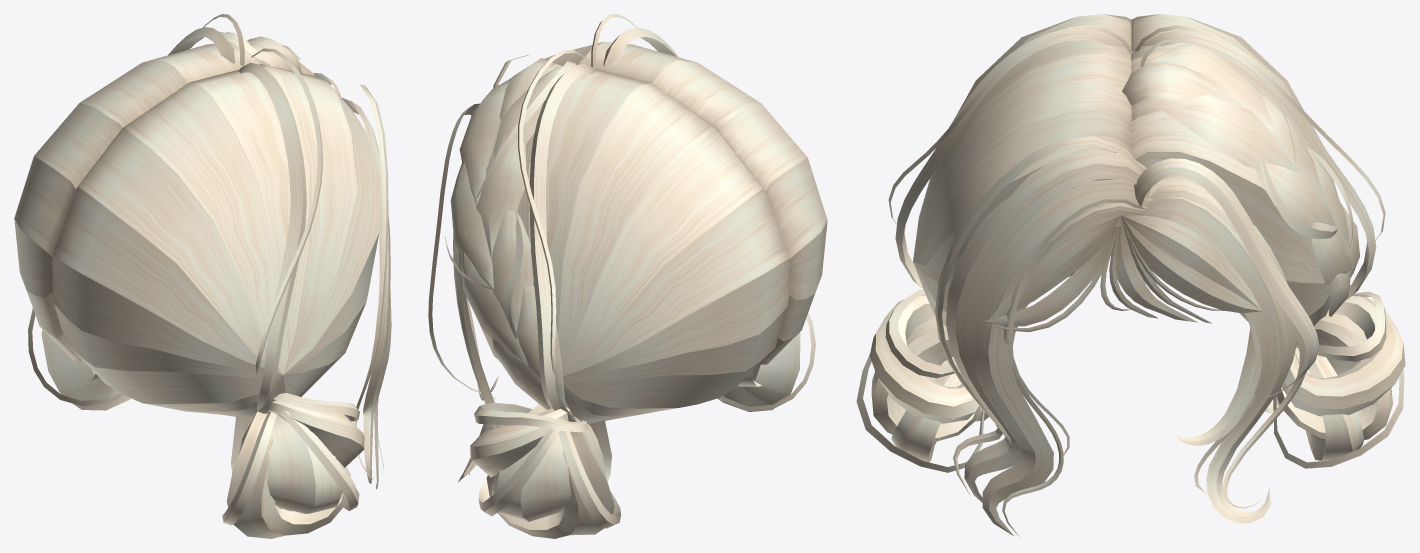
The model's file is 37-Double-Messy-Buns-with-Braid-Yellow-Beige-110168955712985.glb.
3 renders of one model, left to right at view 1: azimuth 30°, elevation 25°; view 2: azimuth 150°, elevation 25°; view 3: azimuth 270°, elevation 25°, orthographic. The views are drawn at different scales.
Parts seen in each view (by area): view 1: 37-Double-Messy-Buns-with-Braid-Yellow-Beige-110168955712985; view 2: 37-Double-Messy-Buns-with-Braid-Yellow-Beige-110168955712985; view 3: 37-Double-Messy-Buns-with-Braid-Yellow-Beige-110168955712985.
Part boxes in pixels (x1=…): 37-Double-Messy-Buns-with-Braid-Yellow-Beige-110168955712985: x1=14, y1=14, x2=391, y2=538; 37-Double-Messy-Buns-with-Braid-Yellow-Beige-110168955712985: x1=428, y1=14, x2=827, y2=538; 37-Double-Messy-Buns-with-Braid-Yellow-Beige-110168955712985: x1=856, y1=14, x2=1405, y2=536.
Bounding box in the file's own units: 1.53 × 2.04 × 2.13.
Materials: 1 (1 with a texture image).
